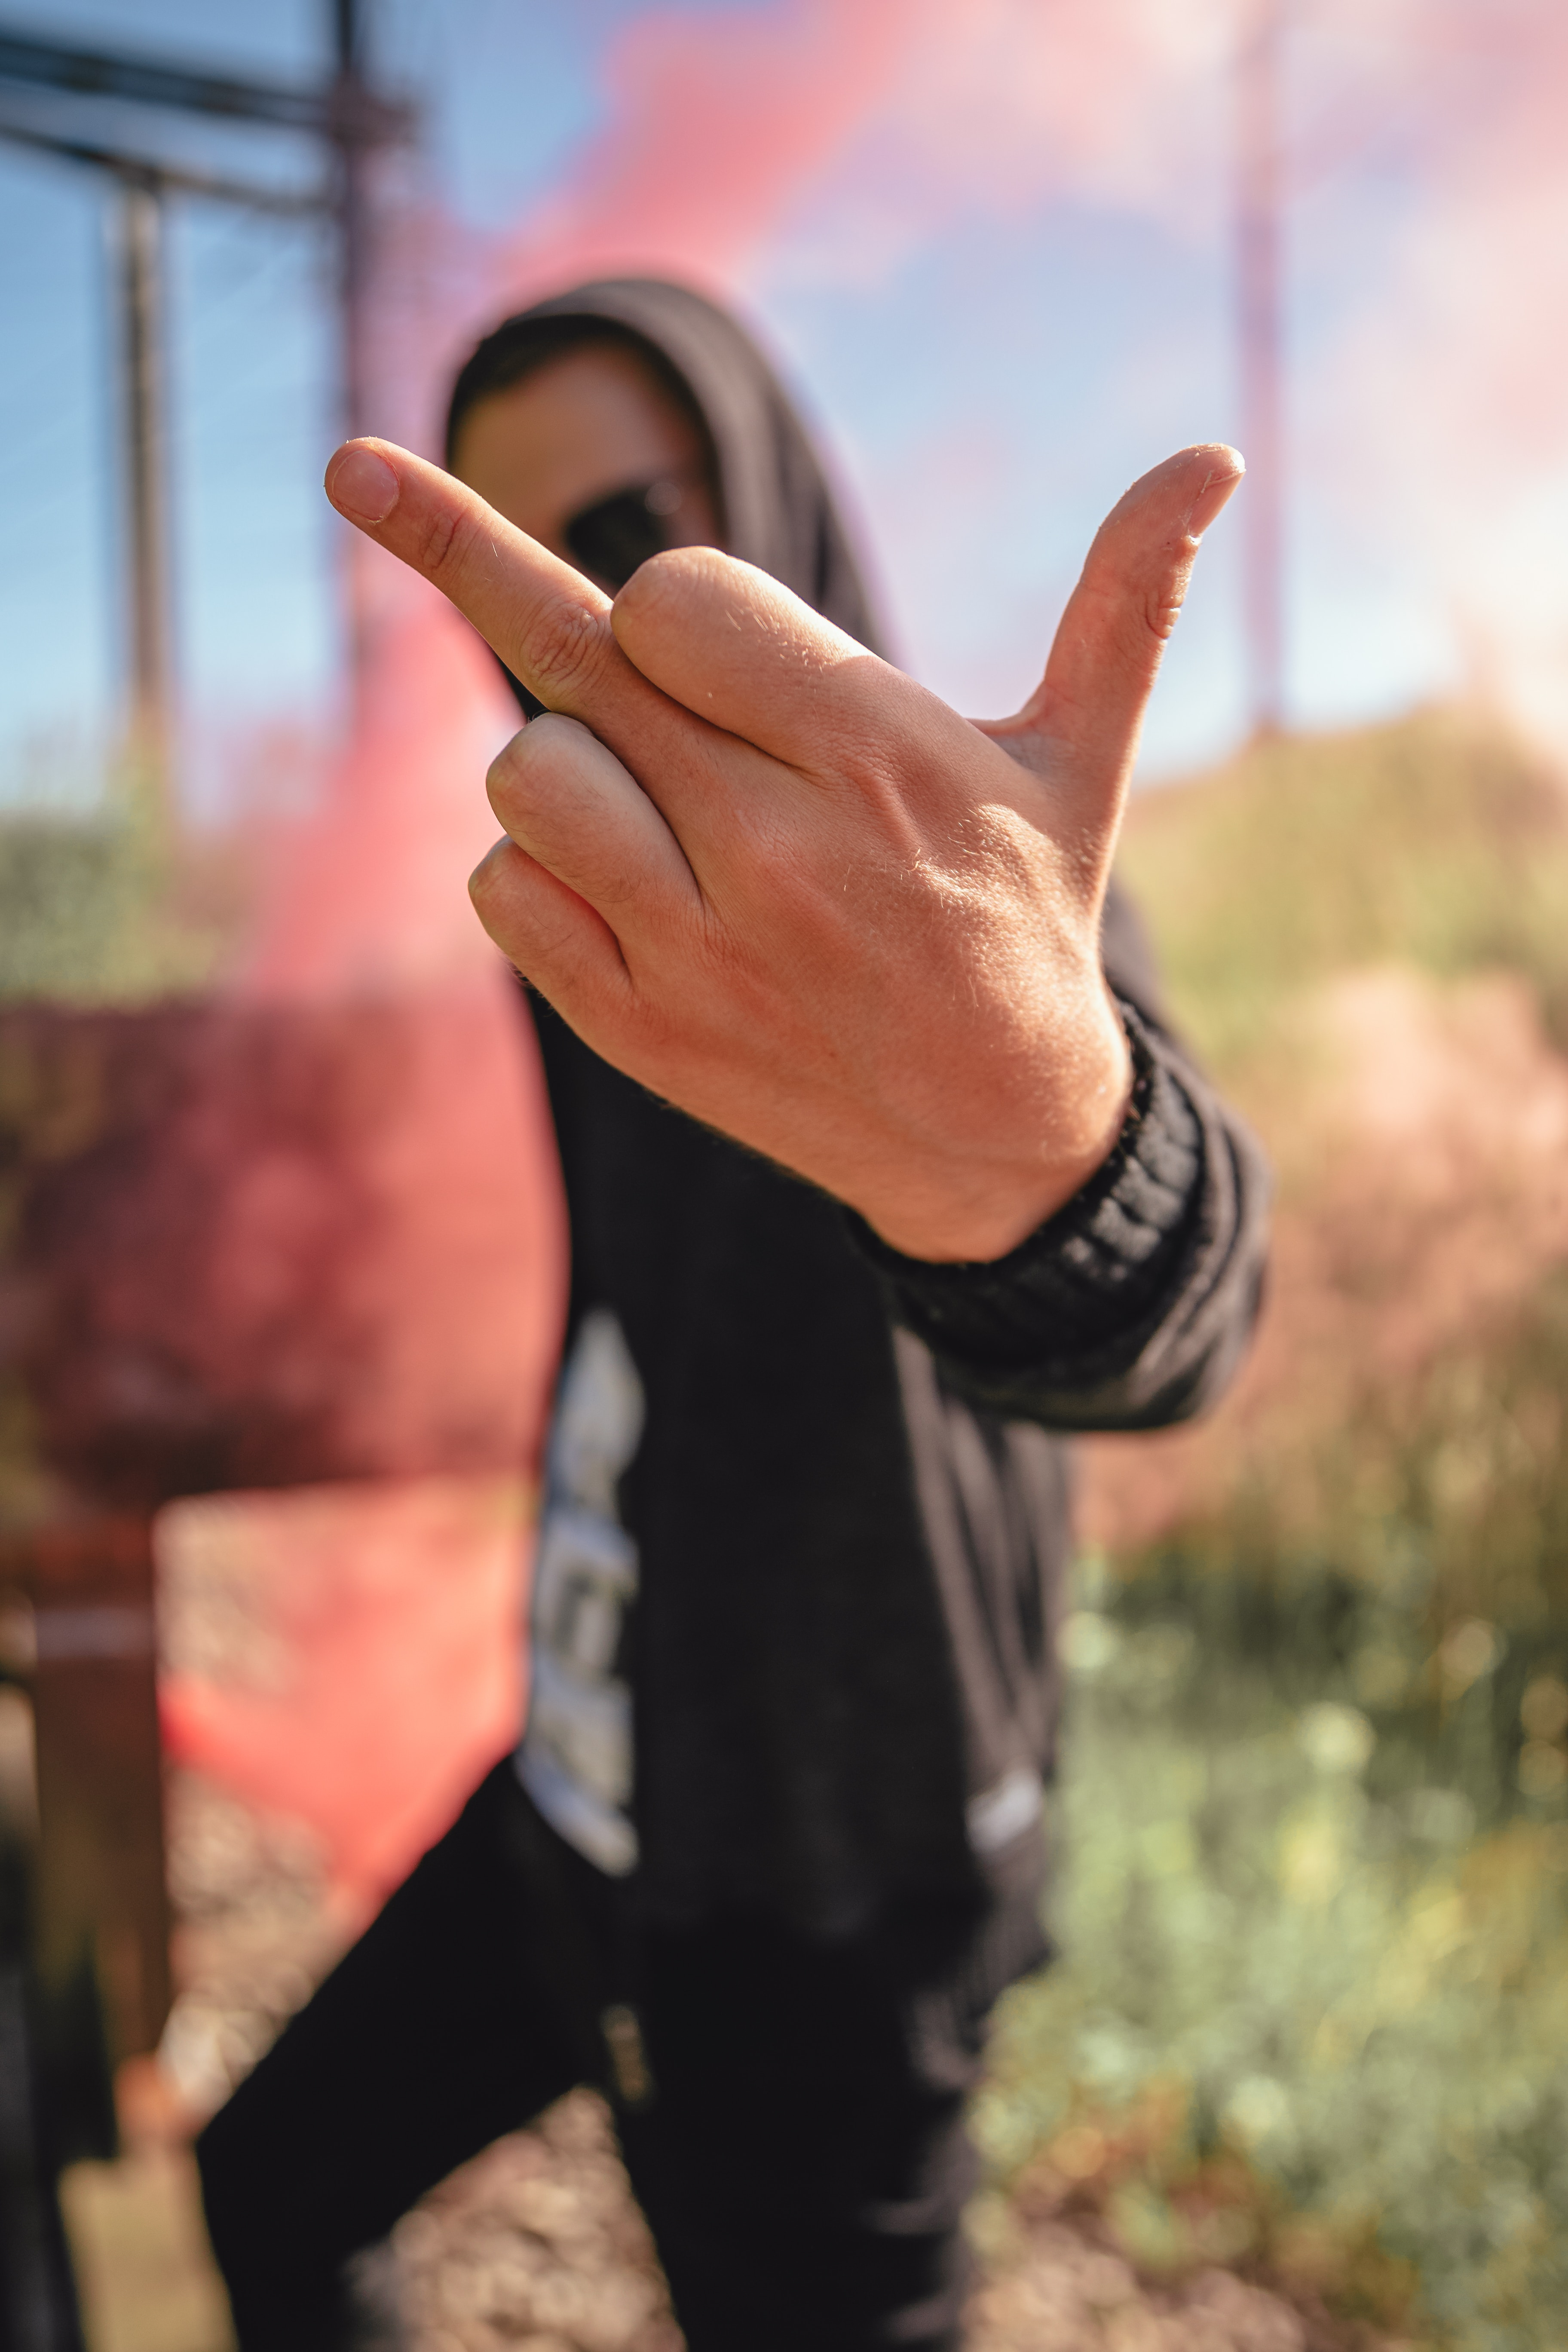insulting_gesture: (324, 423, 1244, 1263)
